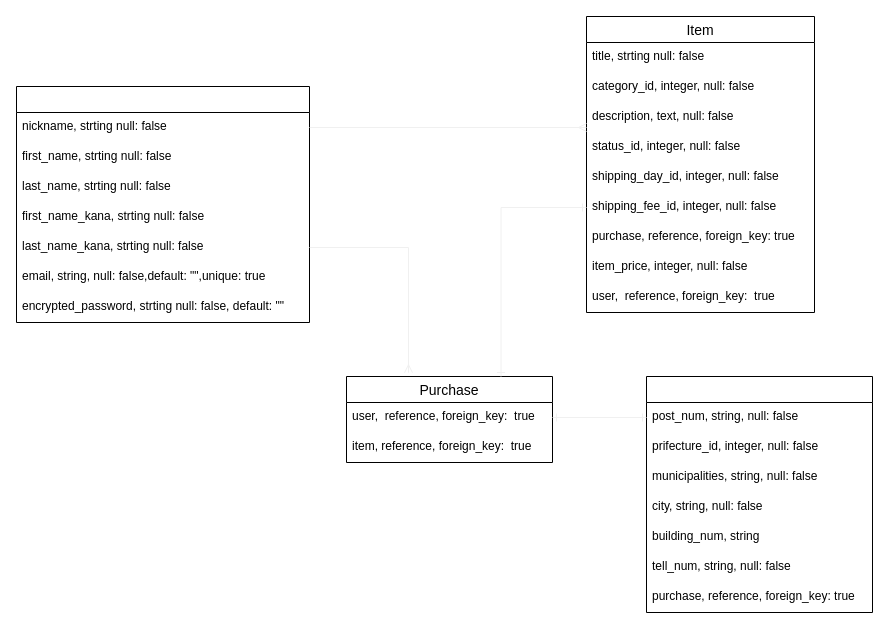
Image size: 889x629. Some labels were removed from this diagram. The box of each missing label's shape, as (x1, y1, x2, y2) in pixels:
Address: (646, 376, 872, 612)
User: (16, 86, 310, 322)
